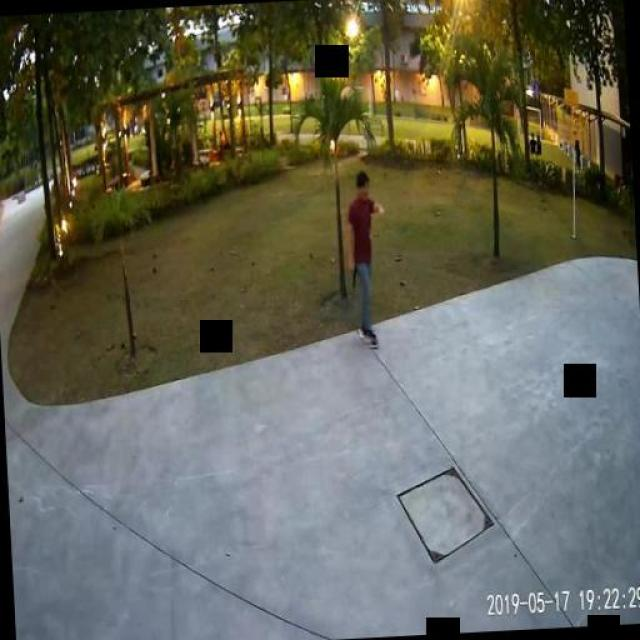gun: (348, 262, 358, 286)
